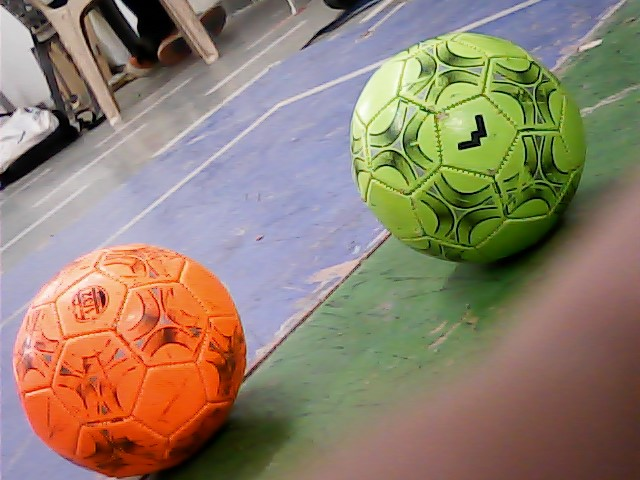Green_ball: (350, 14, 595, 262)
Orange_ball: (11, 230, 259, 480)
